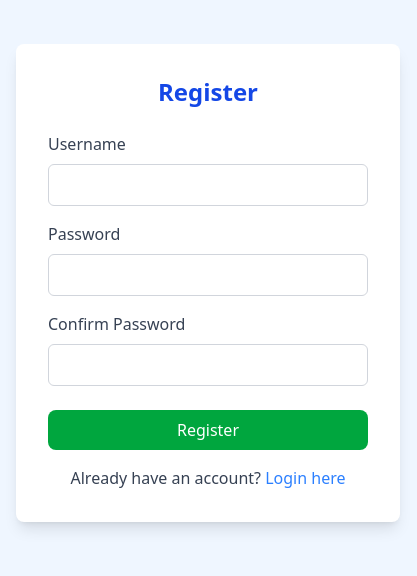
Scenario: Register.tsx tests › should show error when username is invalid
Type "ab" into the field labelled "Username".
click(208, 185); type("ab")  # box [48,164,368,206]
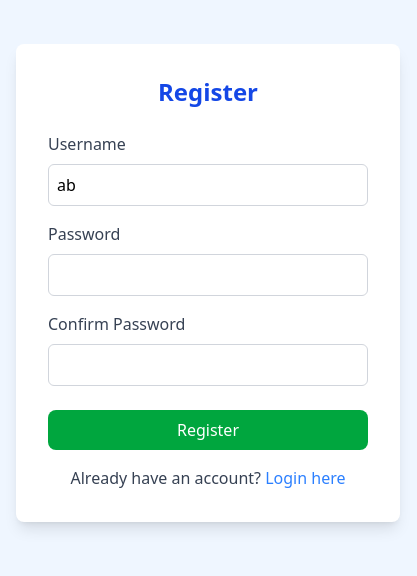
Type "Password123-" into the password field labelled "Password".
click(208, 275); type("Password123-")  # box [48,254,368,296]
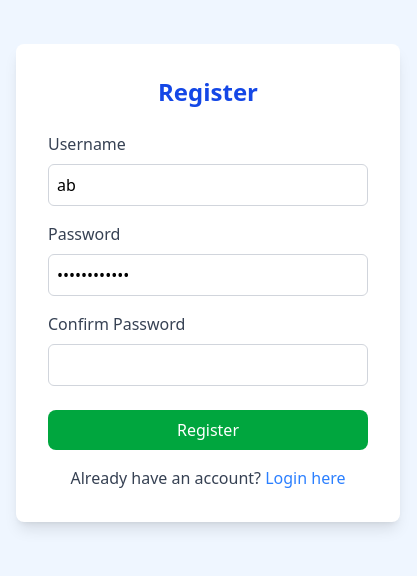
Type "Password123-" into the password field labelled "Confirm Password".
click(208, 365); type("Password123-")  # box [48,344,368,386]
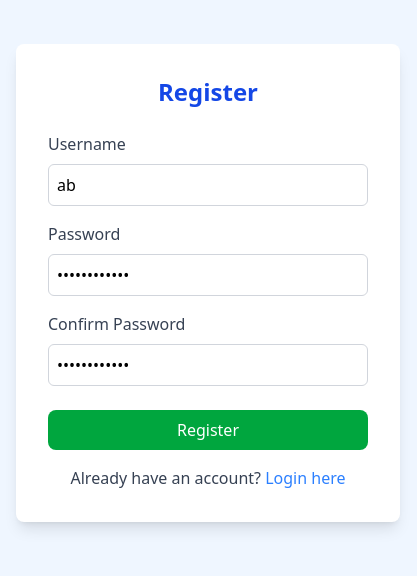
Click the button "Register".
click(208, 430)  # box [48,410,368,450]
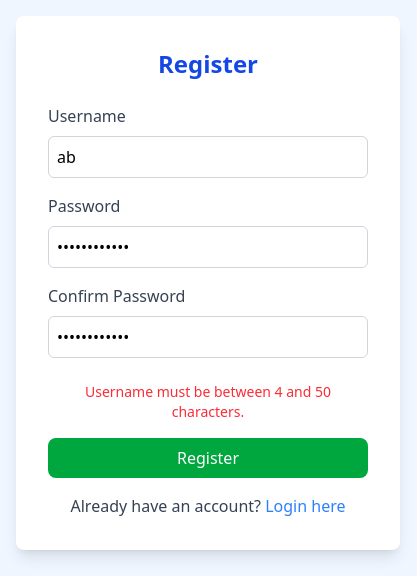
Check: the text "Username must be between 4 and 50 characters." is shown, box [85,382,331,421]
